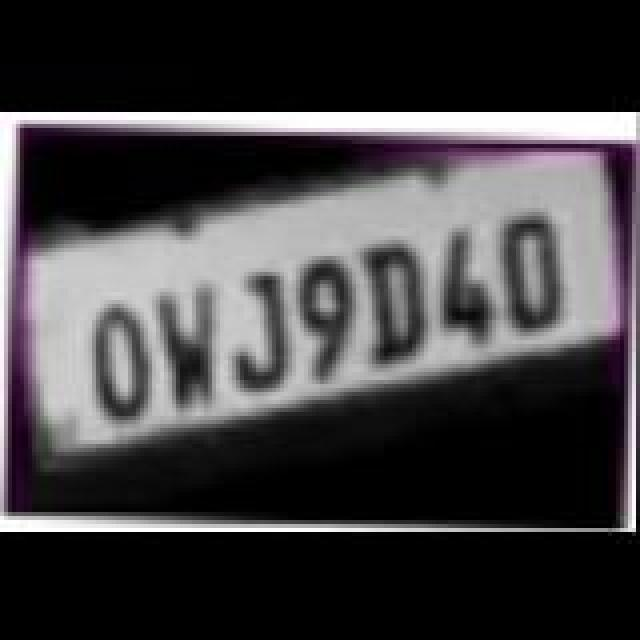4: (428, 226, 504, 350)
9: (290, 256, 370, 384)
D: (356, 240, 440, 368), (494, 214, 574, 338)
J: (226, 272, 306, 400)
O: (82, 300, 162, 428)
W: (148, 282, 232, 414)
